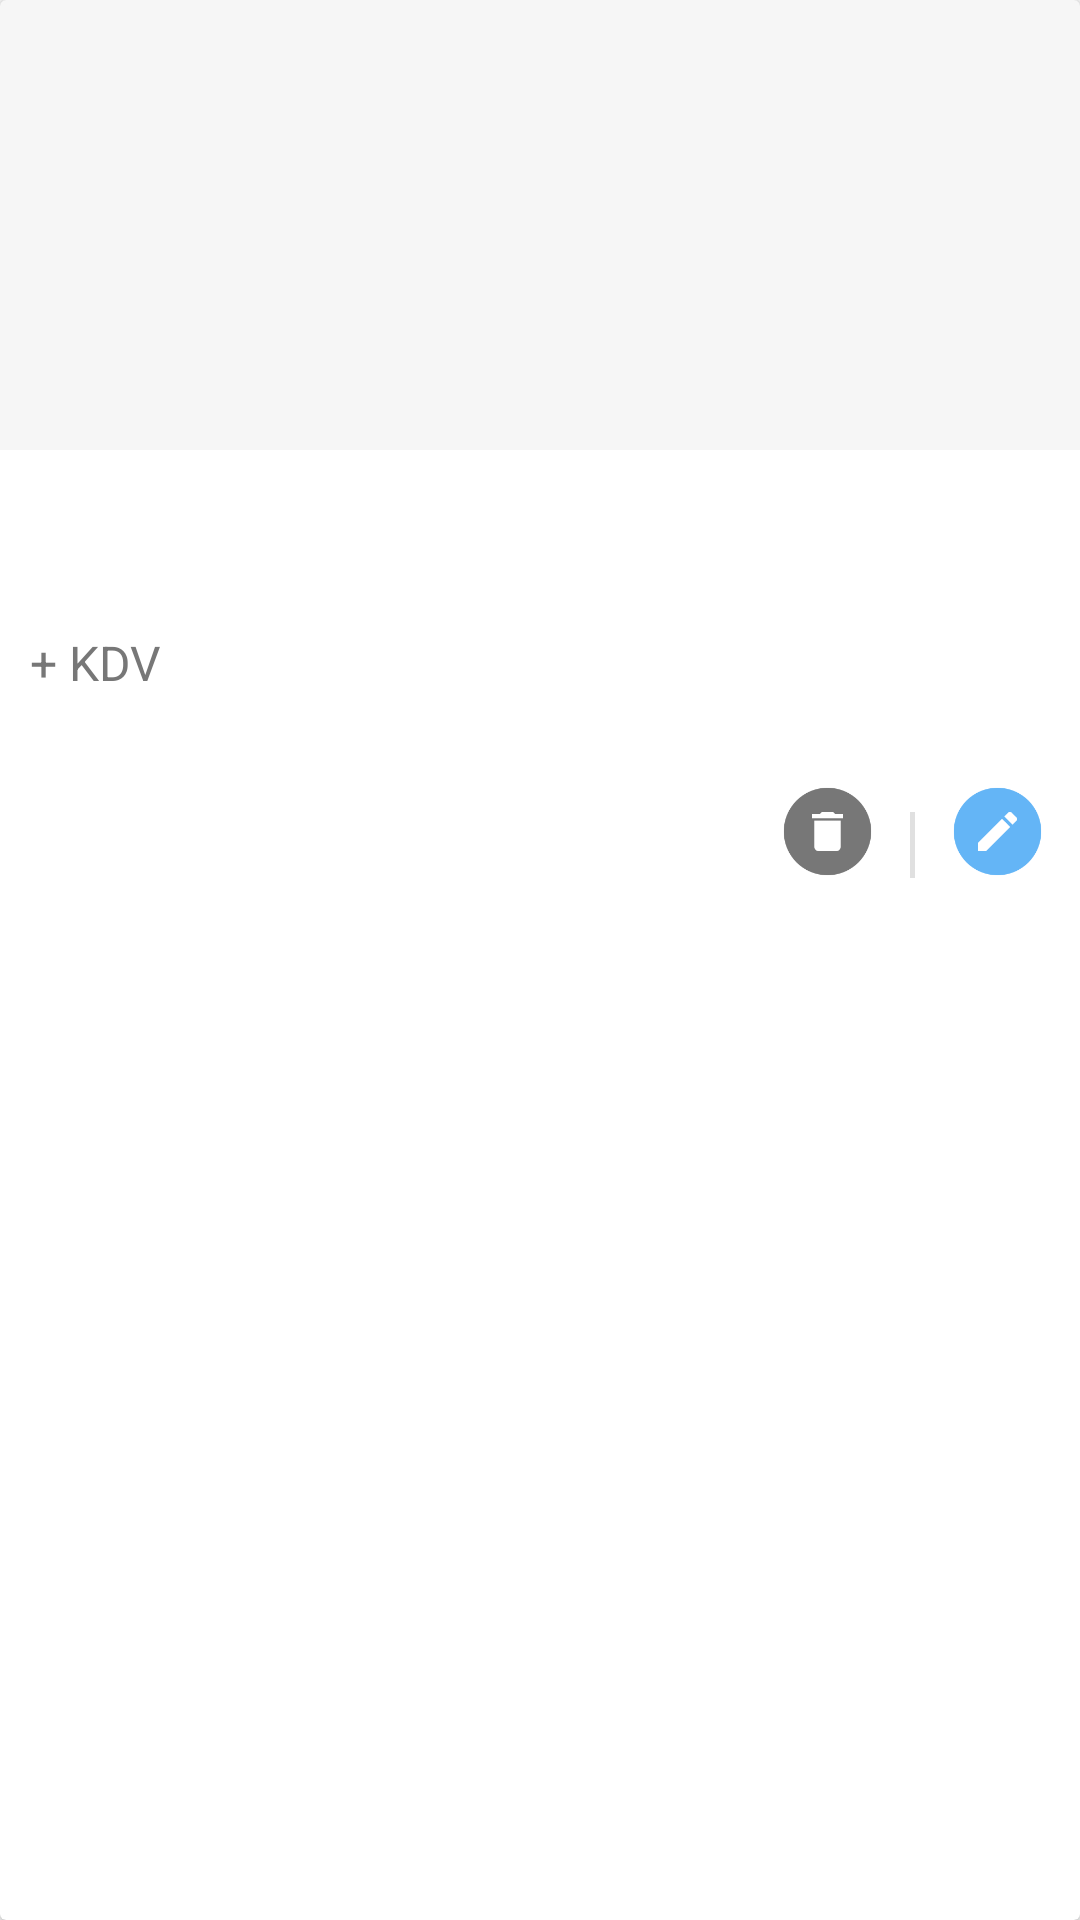

Icon click points for this 1080px×1920px phone screenshot, format (x=x, y=y):
delete: (x=827, y=831)
edit: (x=997, y=831)
